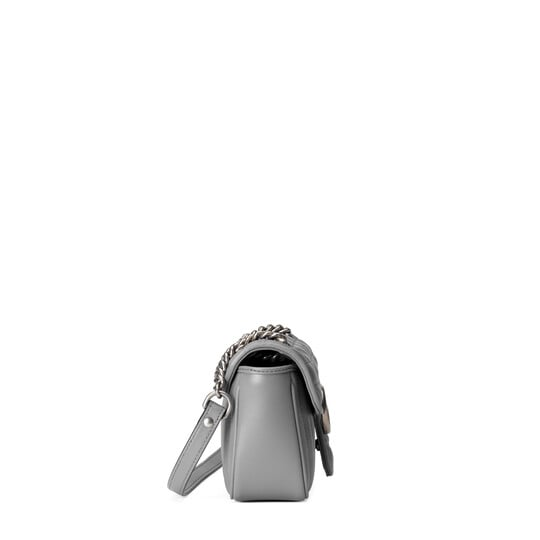Gucci: (171, 325, 333, 502)
